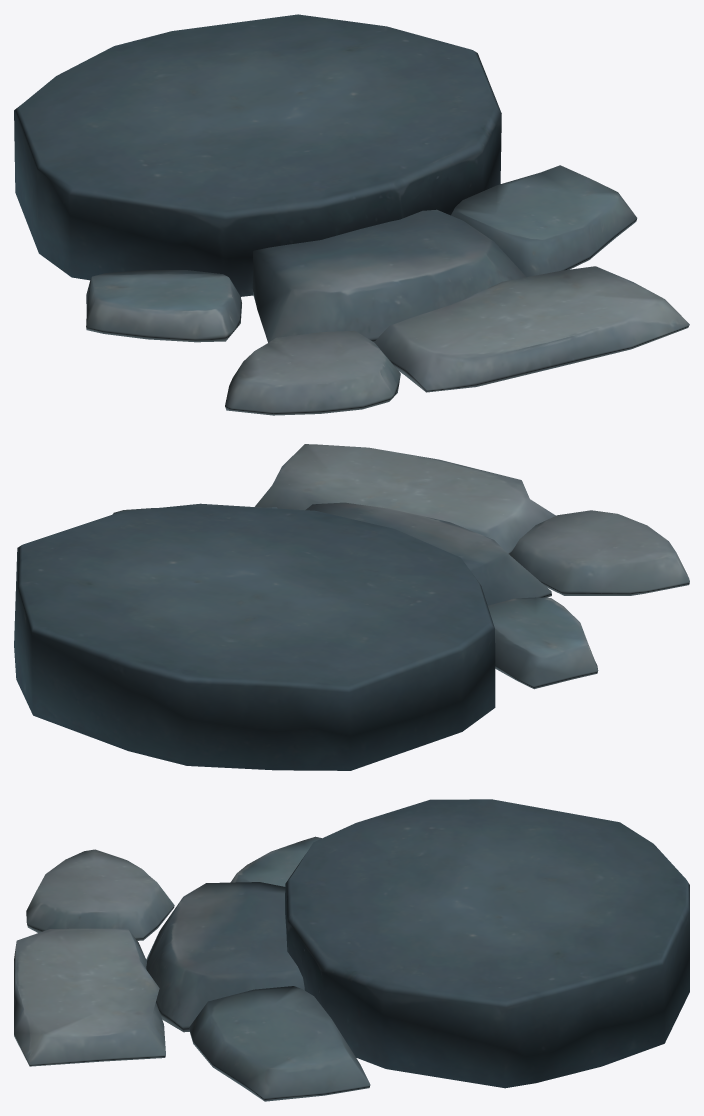
File: Meshy_AI_Stone_Platforms_20261128_texture.fbx
3 views of the same model, one above another, from view 1: azimuth 30°, elevation 25°; view 2: azimuth 150°, elevation 25°; view 3: azimuth 270°, elevation 25° (orthographic). The views are drawn at different scales.
Parts seen in each view (by area): view 1: geometry_0; view 2: geometry_0; view 3: geometry_0.
Part boxes in pixels (bbox=[...]): geometry_0: bbox=[14, 14, 689, 415]; geometry_0: bbox=[14, 444, 689, 770]; geometry_0: bbox=[14, 799, 689, 1101].
Size of the model in its own units: 85.33 by 14.68 by 100.
1 material, 1 textured.
